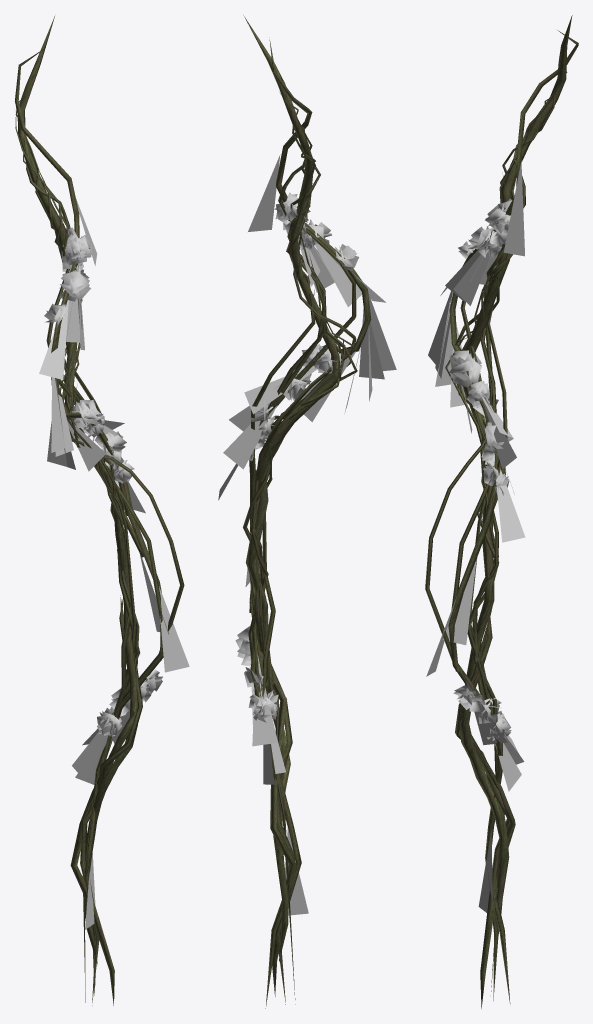
Rendered from Liana3_L3.fbx.
3 views of the same model, side by side, from view 1: azimuth 30°, elevation 25°; view 2: azimuth 150°, elevation 25°; view 3: azimuth 270°, elevation 25° (orthographic). The views are drawn at different scales.
Parts seen in each view (by area): view 1: polySurface54; view 2: polySurface54; view 3: polySurface54.
Part boxes in pixels (<box>): polySurface54: <box>15,16,189,1005</box>; polySurface54: <box>218,15,396,1008</box>; polySurface54: <box>425,15,578,1008</box>.
Size of the model in its own units: 216 by 1433 by 202.
